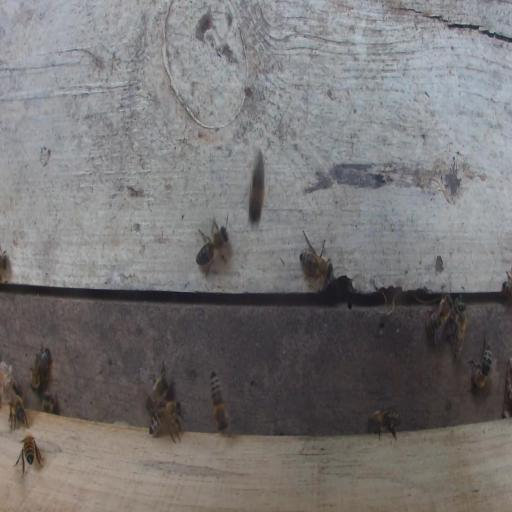nonpollenbee: (297, 228, 334, 293), (195, 211, 229, 280), (425, 289, 454, 349), (149, 398, 185, 446), (444, 299, 469, 363), (467, 330, 492, 390), (145, 358, 172, 413), (14, 431, 44, 480), (366, 403, 402, 441), (209, 368, 230, 433), (248, 148, 266, 223), (28, 340, 53, 392), (5, 385, 30, 433), (42, 390, 55, 413)
